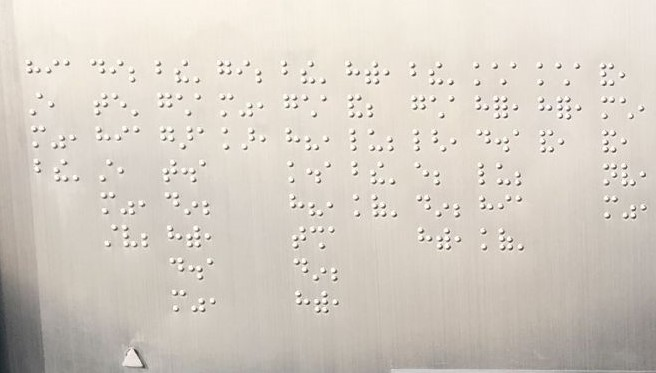Braille: (220, 126, 238, 151), (476, 161, 494, 186), (492, 94, 509, 120), (218, 92, 235, 118), (494, 128, 511, 154), (200, 159, 217, 185), (414, 160, 431, 186), (138, 191, 155, 217), (330, 257, 347, 283), (448, 94, 464, 121), (450, 128, 466, 155), (536, 95, 553, 120), (601, 129, 618, 154), (288, 193, 305, 218), (370, 193, 387, 218), (428, 59, 443, 87), (319, 59, 335, 85), (364, 60, 380, 86), (509, 61, 525, 87), (555, 61, 571, 87), (574, 94, 590, 120), (348, 94, 364, 120), (240, 126, 256, 152), (259, 126, 275, 152), (322, 126, 338, 152), (367, 127, 383, 153), (476, 128, 492, 154), (72, 157, 88, 183), (369, 160, 385, 186), (389, 160, 405, 186), (416, 193, 432, 219), (348, 127, 366, 150), (181, 160, 198, 184), (323, 161, 340, 185), (300, 59, 316, 84), (409, 60, 425, 85), (600, 95, 616, 120), (556, 95, 572, 120), (429, 95, 445, 120), (320, 95, 336, 120), (282, 94, 298, 119), (157, 92, 173, 117), (28, 91, 44, 116), (133, 125, 149, 150), (159, 125, 175, 150), (432, 128, 448, 153), (513, 128, 529, 153), (116, 159, 132, 184), (286, 159, 302, 184), (306, 160, 322, 185), (433, 161, 449, 186), (514, 162, 530, 187), (602, 162, 618, 187), (620, 162, 636, 187), (120, 191, 136, 216), (164, 191, 180, 216), (352, 193, 368, 218), (434, 193, 450, 218), (496, 193, 512, 218), (122, 223, 138, 248), (140, 223, 156, 248), (204, 225, 220, 250), (291, 225, 307, 250), (310, 225, 326, 250), (498, 226, 514, 251), (205, 257, 221, 282), (294, 289, 310, 314), (332, 289, 348, 314), (168, 256, 185, 279), (174, 59, 189, 85), (383, 60, 398, 86), (447, 60, 462, 86), (574, 62, 589, 88), (600, 62, 615, 88), (239, 93, 254, 119), (604, 194, 619, 220), (103, 223, 118, 249), (418, 225, 433, 251), (89, 58, 105, 82), (345, 60, 361, 84), (474, 95, 490, 119), (366, 95, 382, 119), (176, 93, 192, 117), (111, 93, 127, 117), (95, 125, 111, 149), (285, 127, 301, 151), (385, 127, 401, 151), (411, 128, 427, 152), (539, 130, 555, 154), (352, 160, 368, 184), (495, 162, 511, 186), (202, 193, 218, 217), (453, 195, 469, 219), (479, 194, 495, 218), (516, 195, 532, 219), (166, 224, 182, 248), (186, 225, 202, 249), (327, 226, 343, 250), (281, 59, 296, 84), (536, 61, 551, 86), (619, 63, 634, 88), (619, 96, 634, 121), (257, 94, 272, 119), (195, 93, 210, 118), (93, 91, 108, 116), (51, 125, 66, 150), (197, 127, 212, 152), (305, 127, 320, 152), (557, 130, 572, 155), (53, 158, 68, 183), (98, 158, 113, 183), (163, 159, 178, 184), (391, 193, 406, 218), (622, 195, 637, 220), (455, 227, 470, 252), (480, 226, 495, 251), (517, 227, 532, 252), (109, 59, 125, 82), (216, 60, 232, 83), (491, 63, 507, 86), (410, 95, 426, 118), (114, 125, 130, 148), (33, 158, 49, 181), (307, 194, 323, 217), (293, 257, 309, 280), (170, 289, 186, 312), (473, 61, 487, 87), (69, 125, 83, 151), (155, 59, 170, 83), (193, 60, 208, 84), (255, 60, 270, 84), (512, 96, 527, 120), (302, 94, 317, 118), (620, 130, 635, 154), (326, 194, 341, 218), (189, 257, 204, 281), (190, 289, 205, 313), (210, 289, 225, 313), (25, 58, 41, 80), (44, 58, 60, 80), (48, 92, 62, 117), (179, 125, 193, 150), (638, 163, 652, 188), (184, 191, 198, 216), (436, 226, 450, 251), (312, 257, 326, 282), (314, 289, 328, 314), (128, 60, 143, 83), (130, 94, 145, 117), (30, 125, 45, 148), (100, 191, 115, 214), (236, 59, 250, 83), (637, 96, 650, 121), (639, 195, 652, 220), (64, 58, 78, 80)
